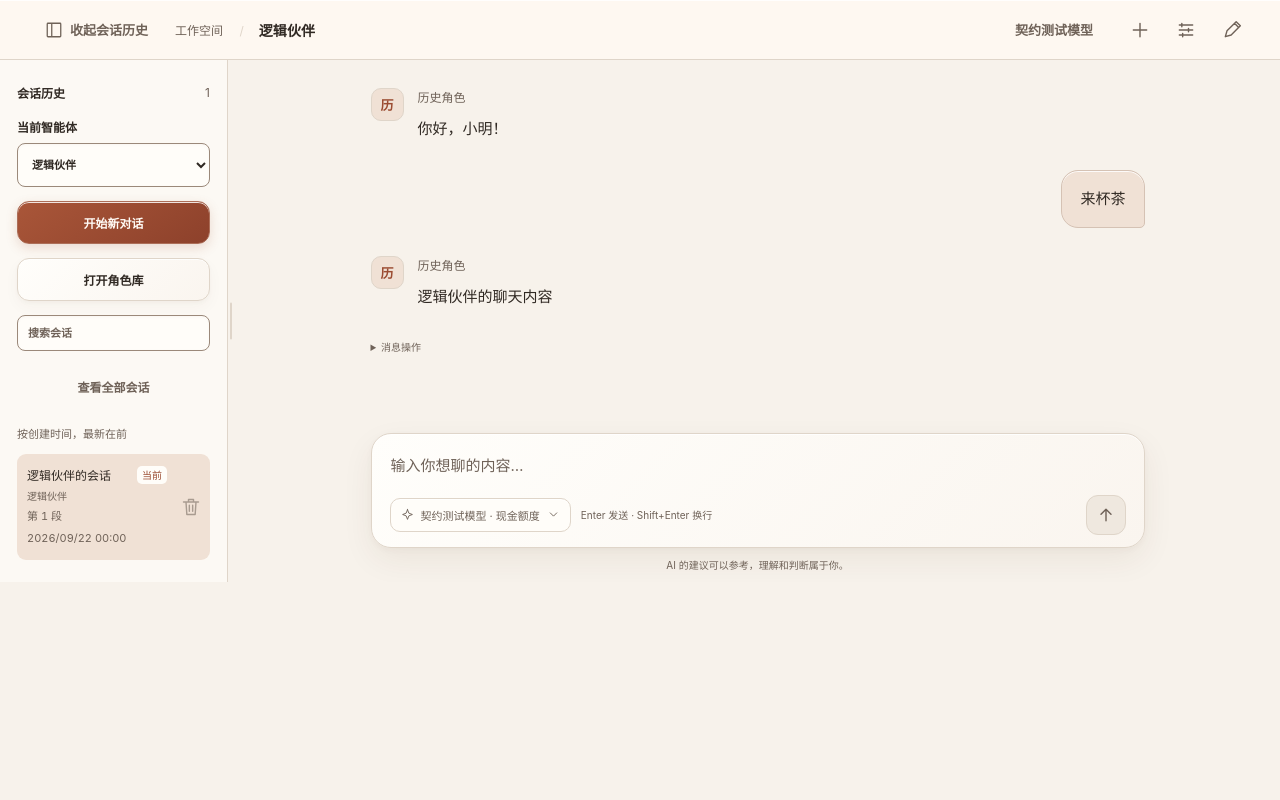
Test case: tavern page shared conversation contract › creates another conversation for the selected role with a separate draft
Expected: the text "逻辑伙伴的聊天内容" is shown, [418,286,552,306]
Type "原会话草稿" into the text box named "消息" at [758, 473], box [390,451,1126,495]
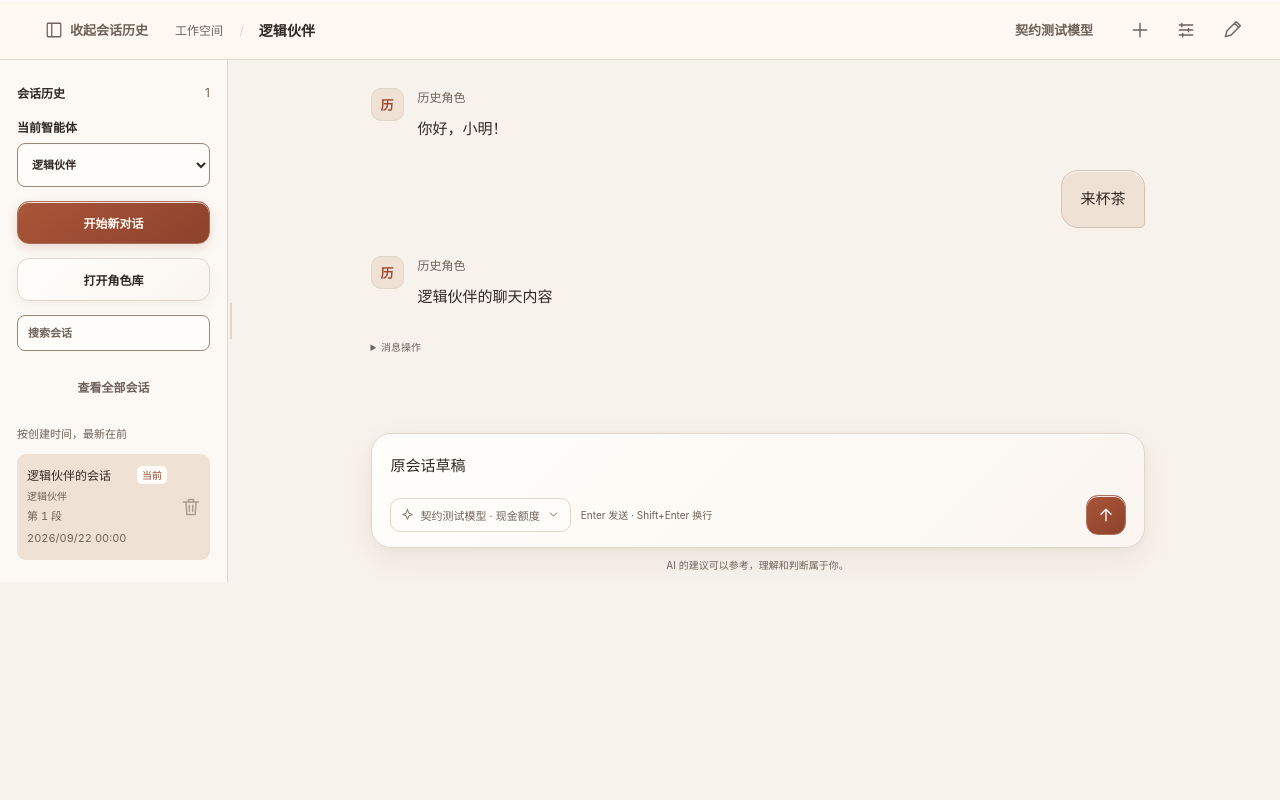
Click the button "开始新对话" at [114, 222], box [17,201,210,244]
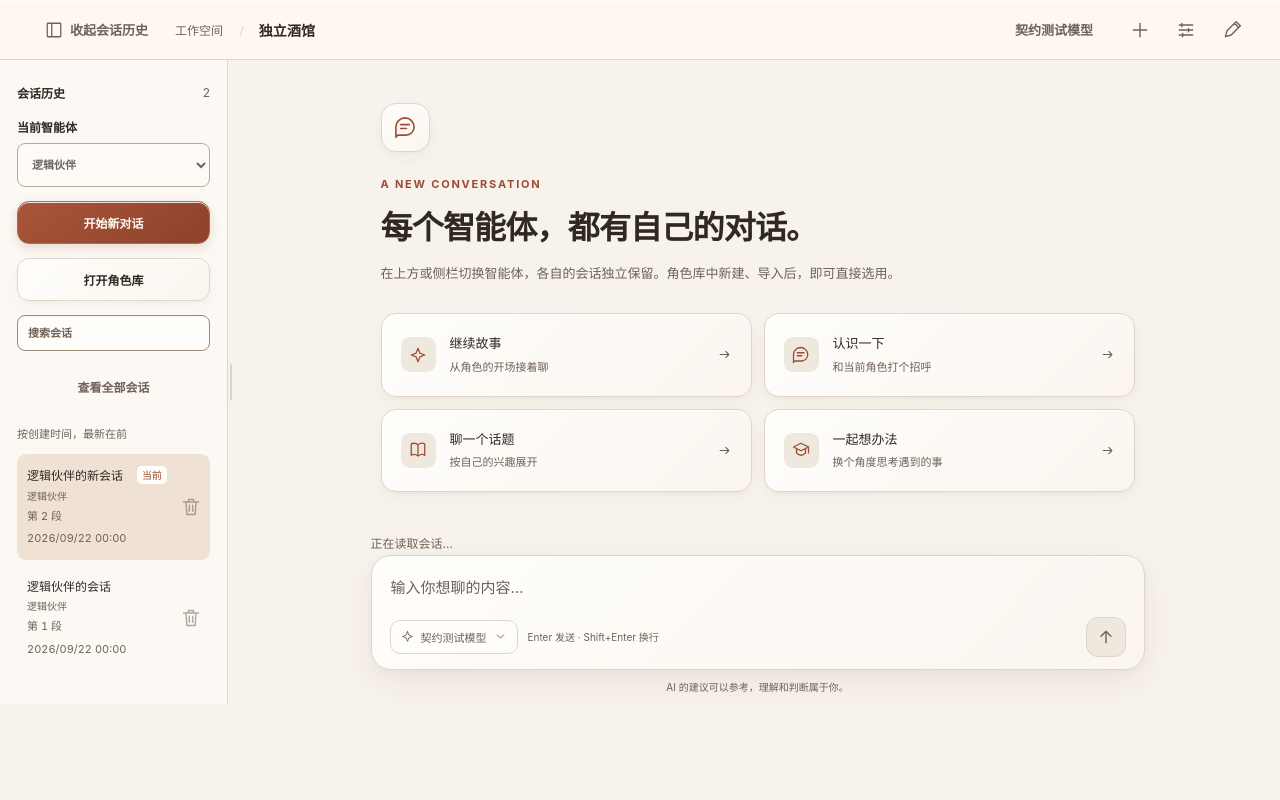
Now the text box named "消息" is empty, box [390,573,1126,617]
Click the button "逻辑伙伴的会话 逻辑伙伴 第 1 段 2026/09/22 00:00" at [97, 618], box [17,565,177,670]
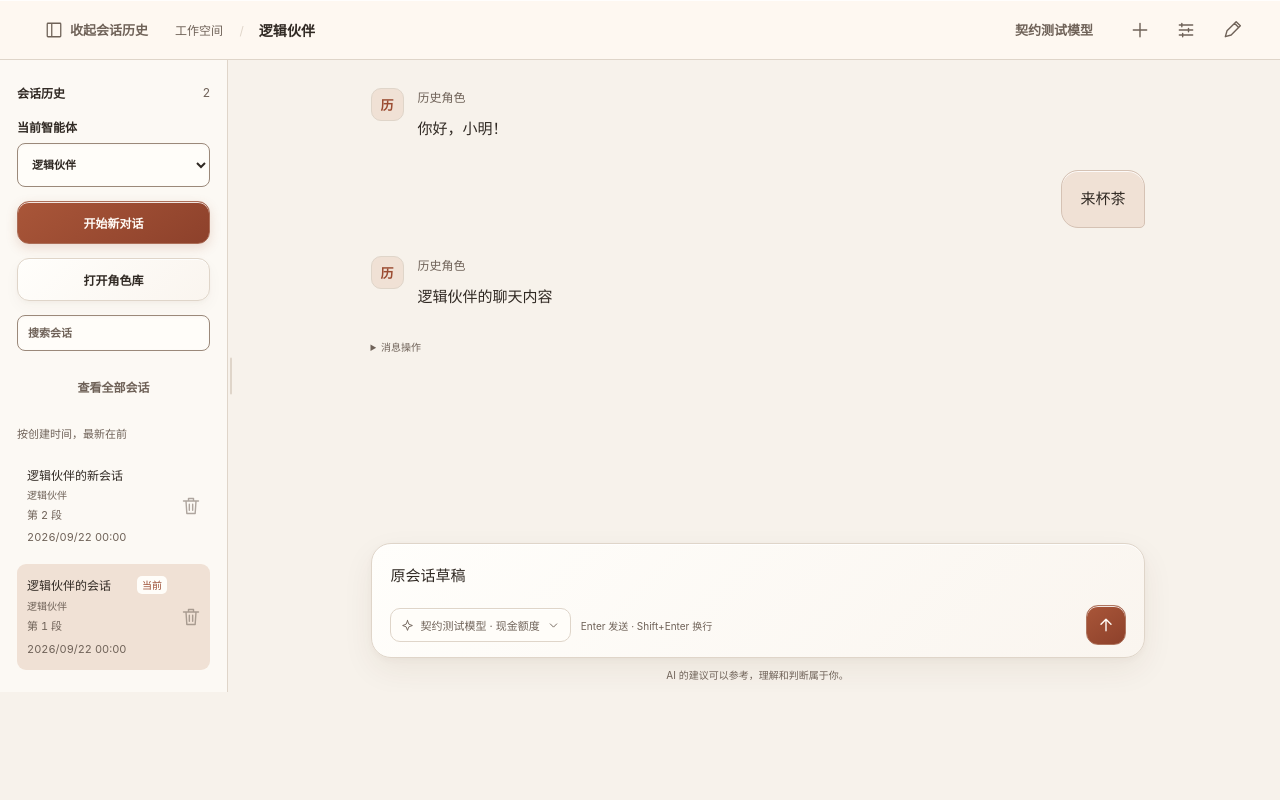
Now the text "逻辑伙伴的聊天内容" is shown, box [418,286,552,306]
Now the text box named "消息" holds "原会话草稿", box [390,561,1126,605]
